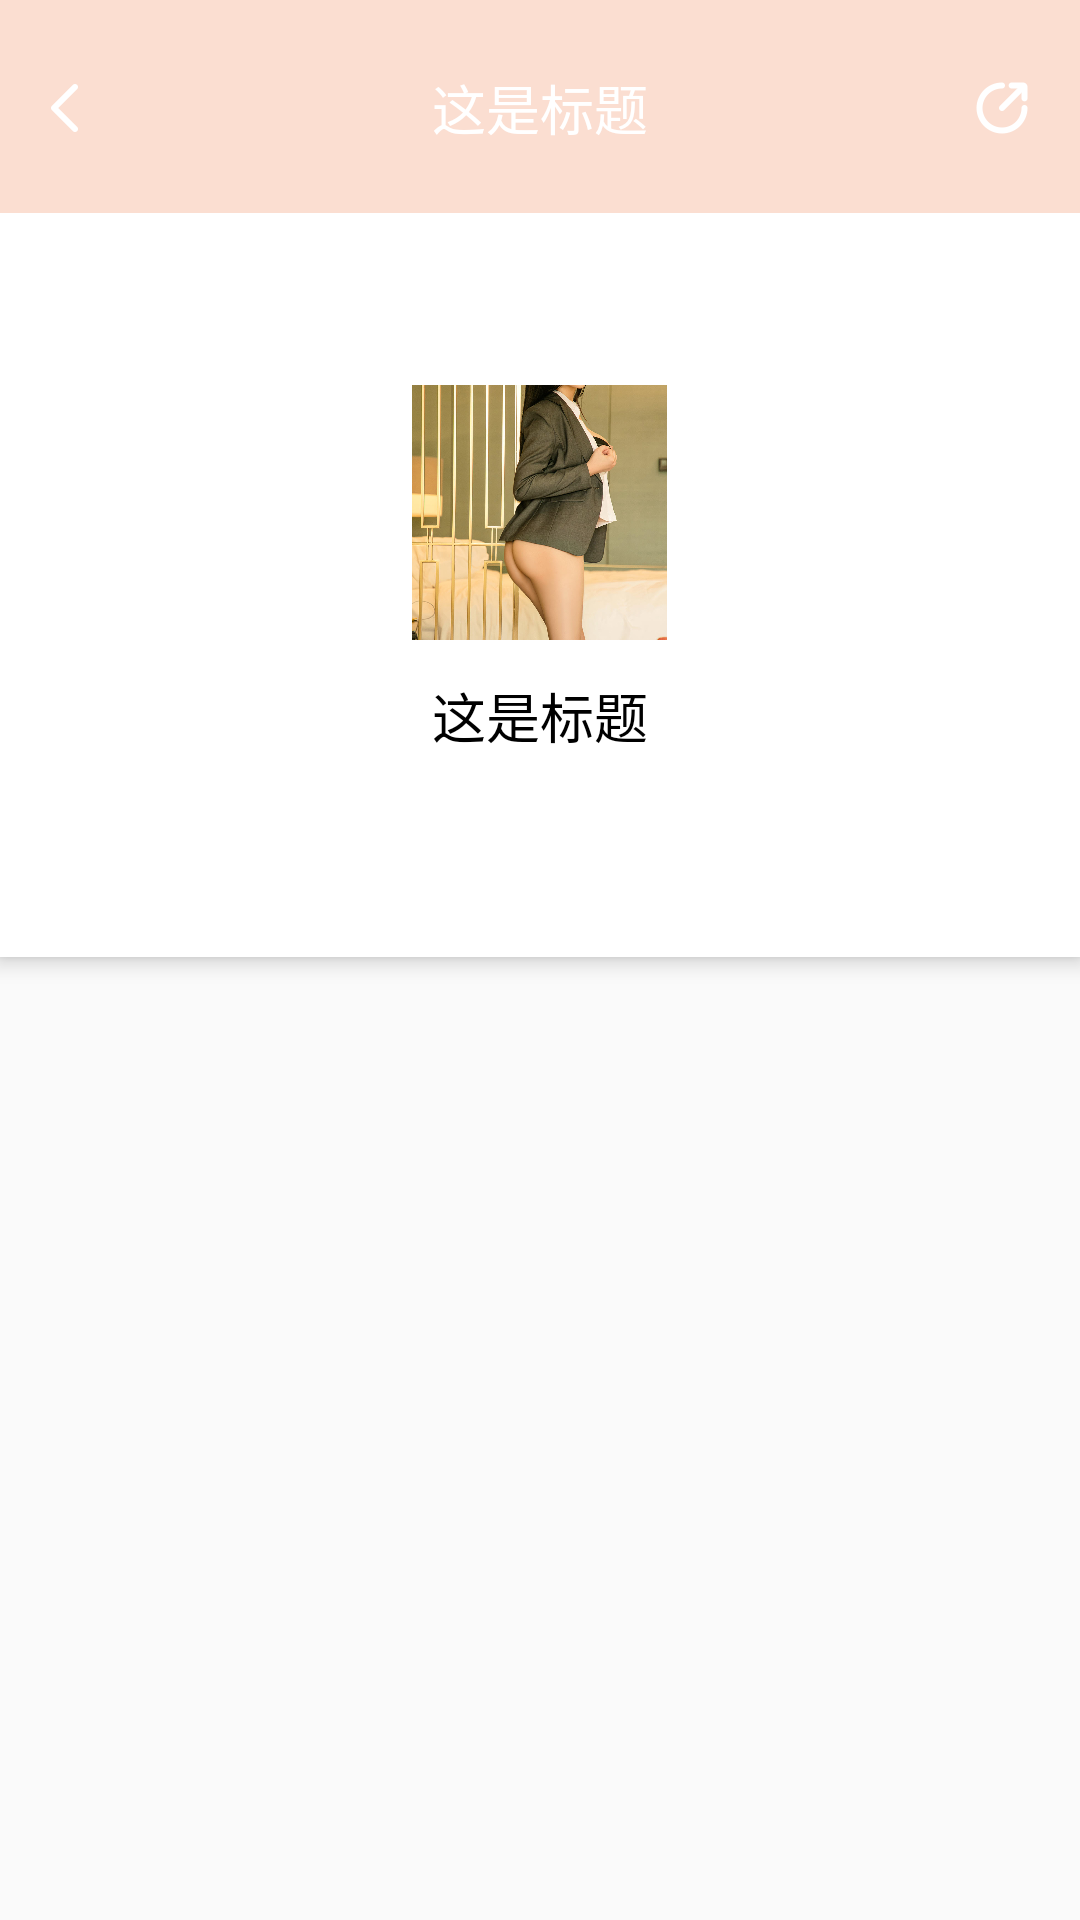

Named icons in this screenshot (1080×1920) and their bounding boxes, [x1,y1,x2,y2]:
navbar back: [51,84,78,132]
navbar share: [977,83,1027,133]
